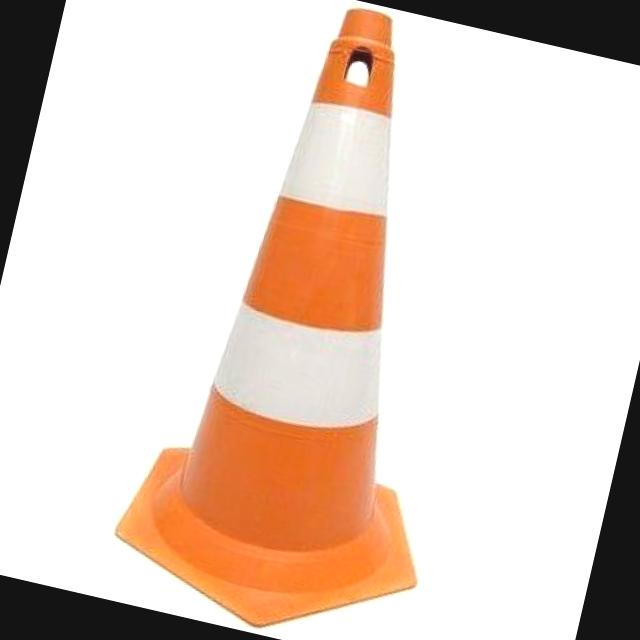cone: (59, 0, 569, 640)
